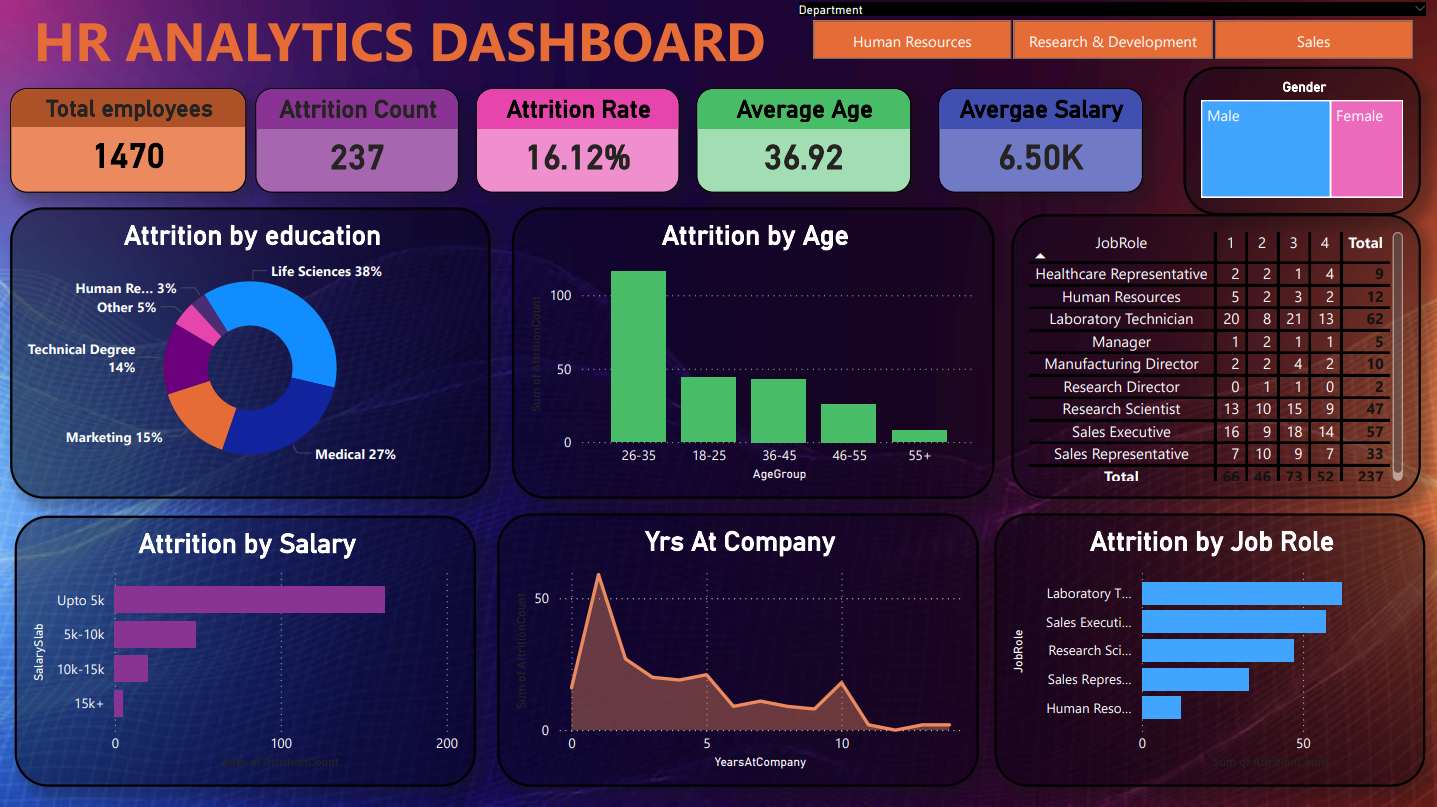

The dashboard page shown, as its layout file describes it:
{"tool":"powerbi","page":{"name":"Page 1","canvas":[1280,720],"ordinal":0},"visuals":[{"type":"card","title":"Total employees","fields":{"Values":["CountNonNull(HR_Analytics.EmpID)"]},"box":[9.4,81.2,209.6,92.5],"z":0},{"type":"card","title":"Attrition Count","fields":{"Values":["Sum(HR_Analytics.AttritionCount)"]},"box":[226.5,81.2,181.2,92.5],"z":1000},{"type":"card","title":"Attrition Rate","fields":{"Values":["HR_Analytics.AttrionRate"]},"box":[422.9,81.2,181.2,92.5],"z":2000},{"type":"card","title":"Average Age ","fields":{"Values":["Avg(HR_Analytics.Age)"]},"box":[619.2,81.2,190.7,92.5],"z":3000},{"type":"card","title":"Avergae Salary","fields":{"Values":["Avg(HR_Analytics.MonthlyIncome)"]},"box":[834.5,81.2,181.2,92.5],"z":4000},{"type":"textbox","box":[24.5,0,672.1,81.2],"z":6000},{"type":"donutChart","title":"Attrition by education","fields":{"Category":["HR_Analytics.EducationField"],"Y":["Sum(HR_Analytics.AttritionCount)"]},"box":[9.4,186.9,426.7,258.6],"z":7000},{"type":"clusteredColumnChart","title":"Attrition by Age","fields":{"Category":["HR_Analytics.AgeGroup"],"Y":["Sum(HR_Analytics.AttritionCount)"]},"box":[455,186.9,428.6,258.6],"z":8000},{"type":"pivotTable","fields":{"Rows":["HR_Analytics.JobRole"],"Columns":["HR_Analytics.JobSatisfaction"],"Values":["Sum(HR_Analytics.AttritionCount)"]},"box":[898.6,192.6,364.4,253],"z":9000},{"type":"barChart","title":"Attrition by Salary","fields":{"Category":["HR_Analytics.SalarySlab"],"Y":["Sum(HR_Analytics.AttritionCount)"]},"box":[13.2,460.6,409.7,241.7],"z":10000},{"type":"stackedAreaChart","title":"Yrs At Company","fields":{"Category":["HR_Analytics.YearsAtCompany"],"Y":["Sum(HR_Analytics.AttritionCount)"]},"box":[441.8,458.8,428.6,243.5],"z":11000},{"type":"barChart","title":"Attrition by Job Role","fields":{"Category":["HR_Analytics.JobRole"],"Y":["Sum(HR_Analytics.AttritionCount)"]},"box":[883.5,458.8,383.2,243.5],"z":12000},{"type":"treemap","title":"Gender","fields":{"Group":["HR_Analytics.Gender"],"Values":["Sum(HR_Analytics.AttritionCount)"]},"box":[1051.6,62.3,211.4,132.2],"z":13000},{"type":"slicer","fields":{"Values":["HR_Analytics.Department"]},"box":[696.6,0,583.4,62.3],"z":13001}]}

Visuals, with their boxes in screenshot pixels (x1, y1, x2, y2), scaled from the page's 1280x720 canvas onto the 1437x807 screenshot:
"Total employees" card: BBox(11, 91, 246, 195)
"Attrition Count" card: BBox(254, 91, 458, 195)
"Attrition Rate" card: BBox(475, 91, 678, 195)
"Average Age " card: BBox(695, 91, 909, 195)
"Avergae Salary" card: BBox(937, 91, 1140, 195)
textbox: BBox(28, 0, 782, 91)
"Attrition by education" donutChart: BBox(11, 209, 490, 499)
"Attrition by Age" clusteredColumnChart: BBox(511, 209, 992, 499)
pivotTable - HR_Analytics.JobRole x HR_Analytics.JobSatisfaction: BBox(1009, 216, 1418, 499)
"Attrition by Salary" barChart: BBox(15, 516, 475, 787)
"Yrs At Company" stackedAreaChart: BBox(496, 514, 977, 787)
"Attrition by Job Role" barChart: BBox(992, 514, 1422, 787)
"Gender" treemap: BBox(1181, 70, 1418, 218)
slicer - HR_Analytics.Department: BBox(782, 0, 1436, 70)
